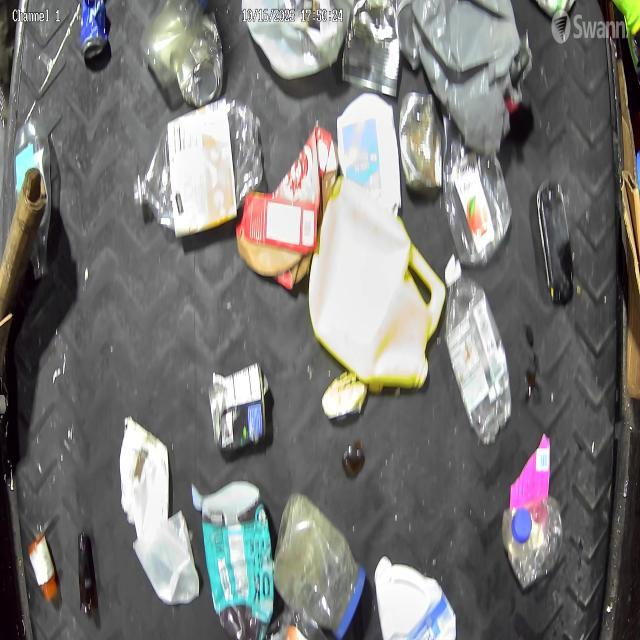can: (208, 361, 271, 456), (175, 11, 225, 109), (398, 92, 442, 194)
milk_jug: (307, 176, 447, 390), (337, 91, 402, 218), (374, 554, 457, 640)
plastic_bottle: (274, 492, 366, 640), (444, 254, 513, 446), (13, 115, 51, 280), (501, 496, 564, 590)
